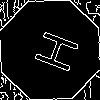H: (25, 25, 80, 75)
